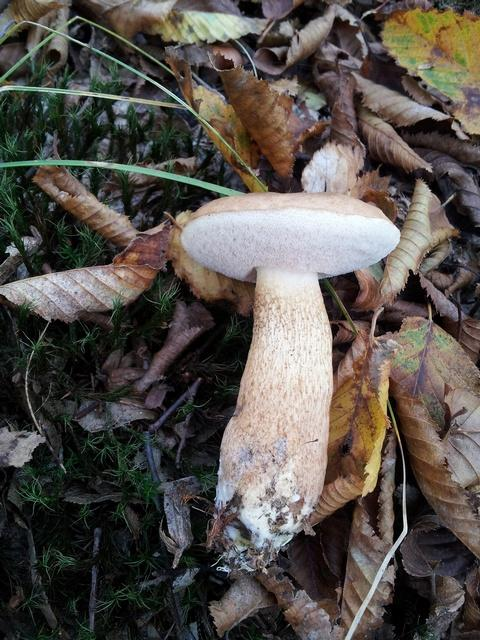poisonous_mushroom: (178, 190, 401, 568)
